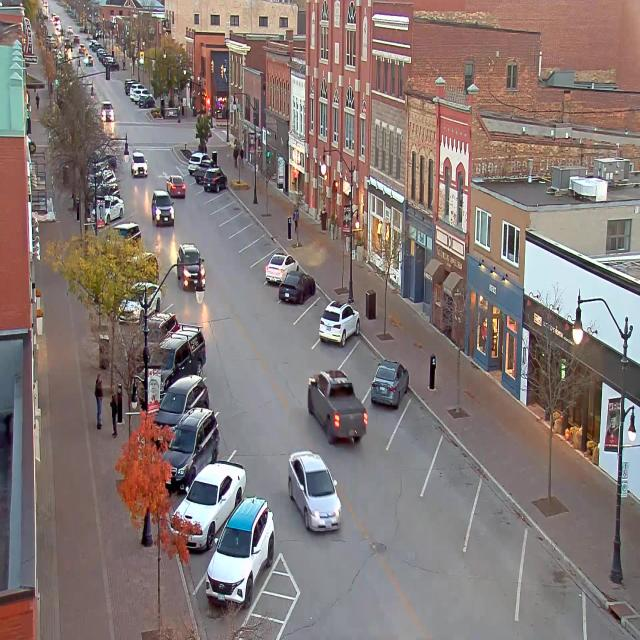available: (460, 473, 530, 582), (511, 546, 591, 639), (425, 444, 484, 522), (388, 392, 444, 469), (578, 588, 638, 640), (338, 332, 382, 396), (294, 294, 329, 335), (240, 234, 276, 260), (222, 210, 252, 232), (234, 224, 258, 247), (210, 201, 234, 223), (207, 193, 228, 210)
occupied: (171, 460, 246, 552), (215, 498, 281, 580), (150, 373, 210, 447), (174, 406, 221, 460), (165, 322, 210, 378), (318, 299, 360, 346), (370, 358, 408, 408), (278, 270, 315, 304), (266, 254, 290, 283), (203, 165, 227, 192), (188, 151, 207, 175), (195, 161, 208, 186)
